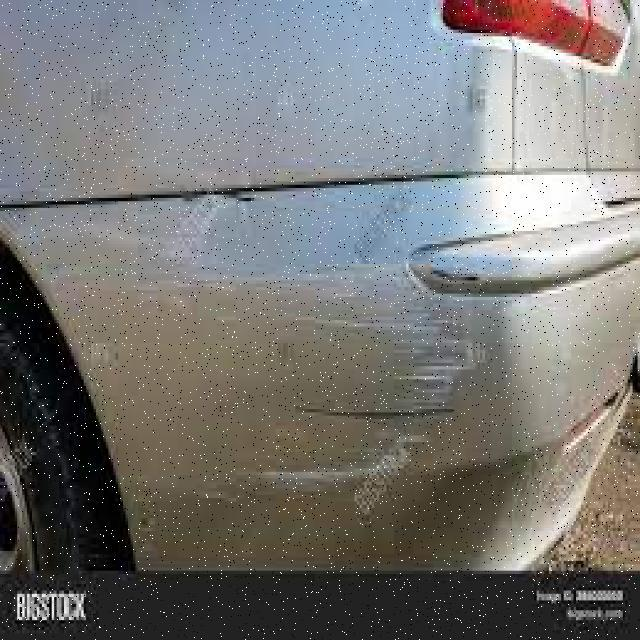rear-bumper-dent: (0, 172, 635, 581)
